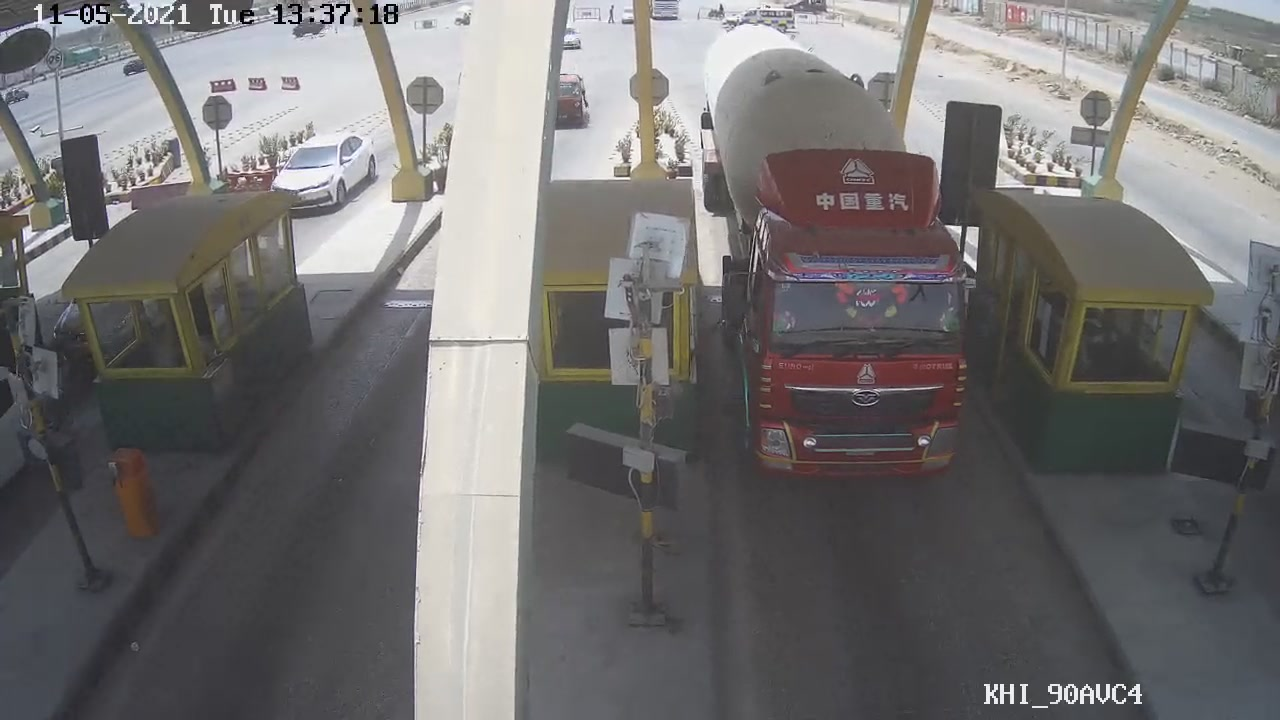F6: (707, 63, 987, 485)
